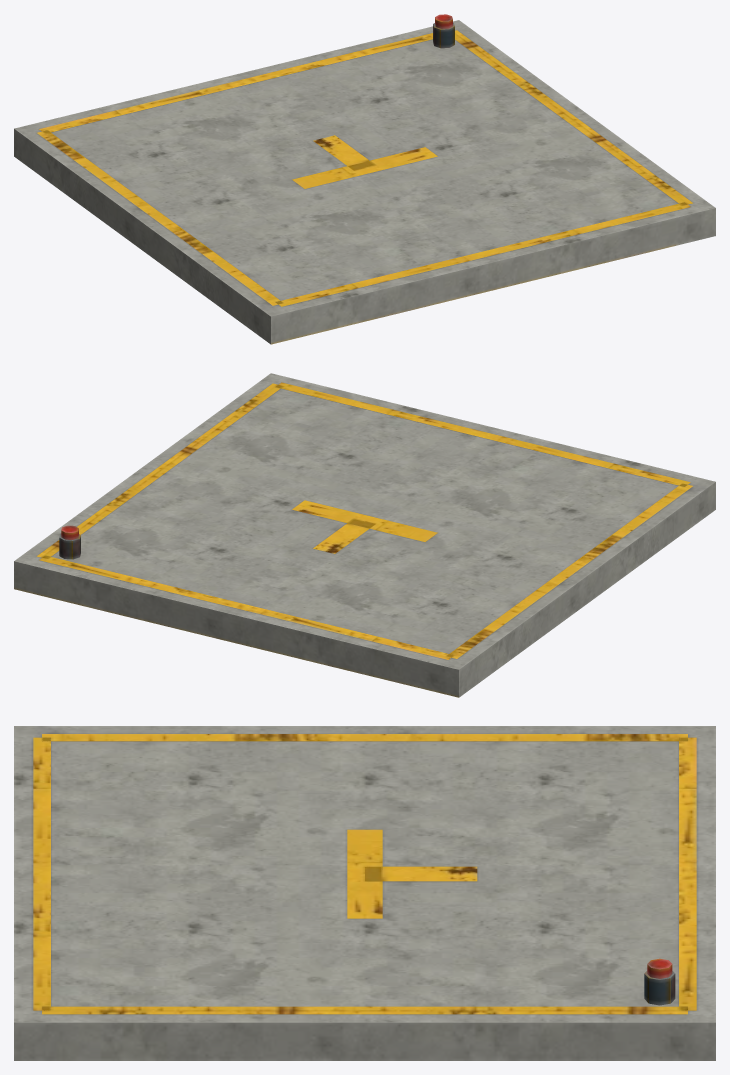
File: hull_dock.glb
3 views of the same model, one above another, from view 1: azimuth 30°, elevation 25°; view 2: azimuth 150°, elevation 25°; view 3: azimuth 270°, elevation 25° (orthographic). The views are drawn at different scales.
Parts seen in each view (by area): view 1: te_hull_dock; view 2: te_hull_dock; view 3: te_hull_dock.
Part boxes in pixels (bbox=[...]): te_hull_dock: bbox=[14, 14, 715, 344]; te_hull_dock: bbox=[14, 373, 715, 697]; te_hull_dock: bbox=[14, 726, 715, 1060].
Bounding box in the file's own units: 1 × 0.115 × 1.
Materials: 1 (1 with a texture image).
